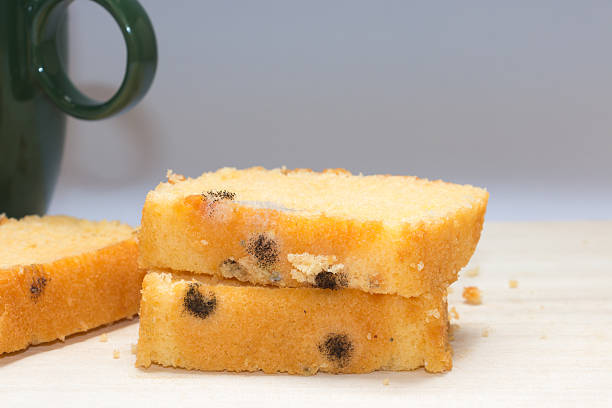mold_bread: (311, 330, 363, 371), (179, 277, 220, 323), (246, 231, 284, 270), (17, 264, 54, 302), (311, 265, 353, 295), (201, 187, 240, 218), (219, 256, 240, 275)
